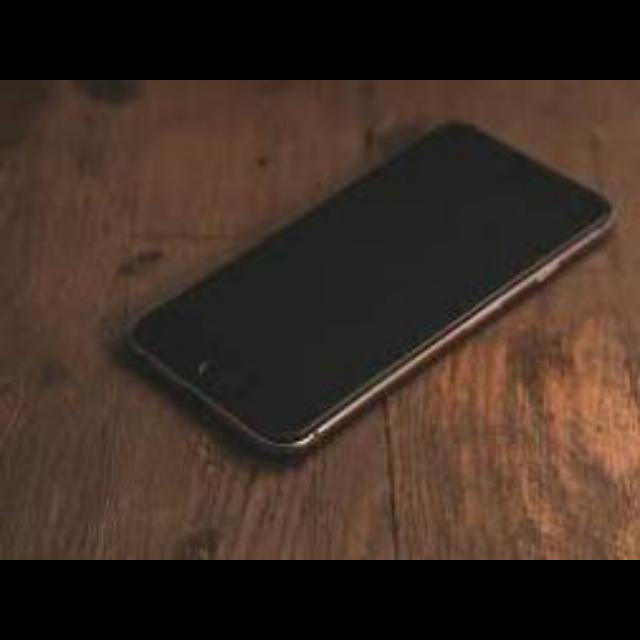Phone: (118, 89, 640, 455)
